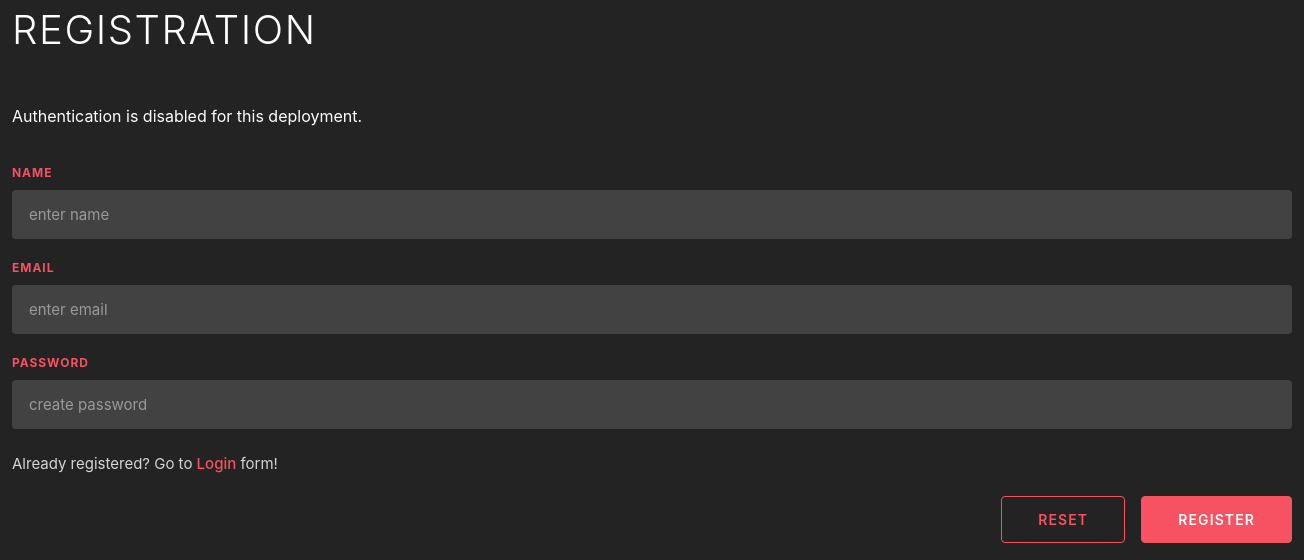
Test case: UserForm Component › registration form › clears fields and errors on reset button click
This screenshot has width=1304, height=560.
Type "John" into the field with placeholder "enter name" at point(652, 214), box [12,190,1292,239]
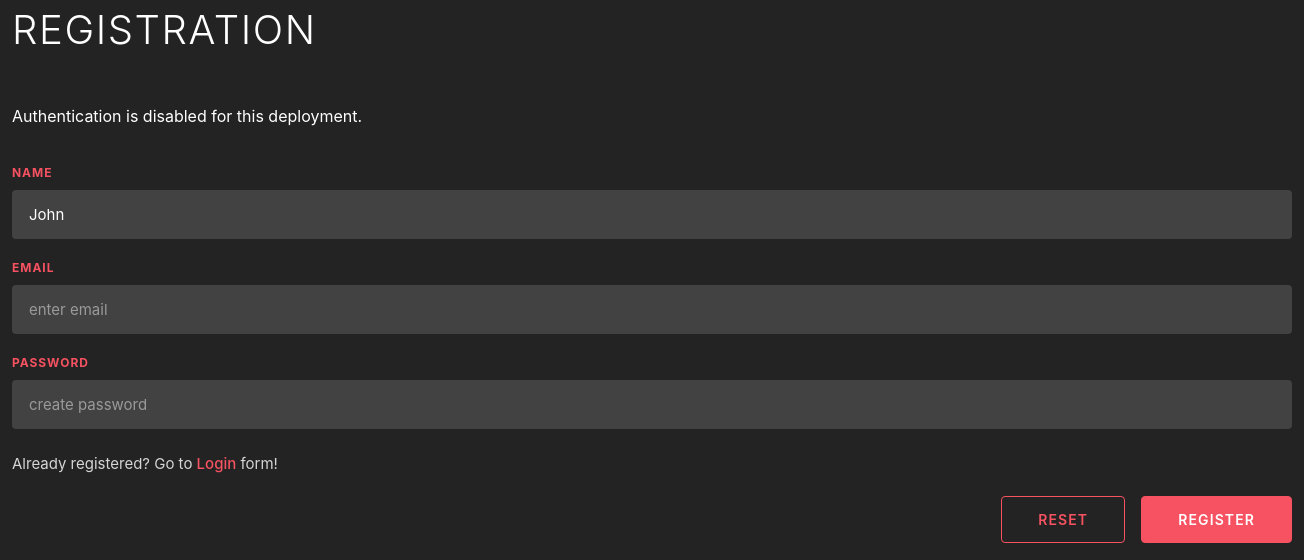
Type "john@example.com" into the field with placeholder "enter email" at point(652, 310), box [12,285,1292,334]
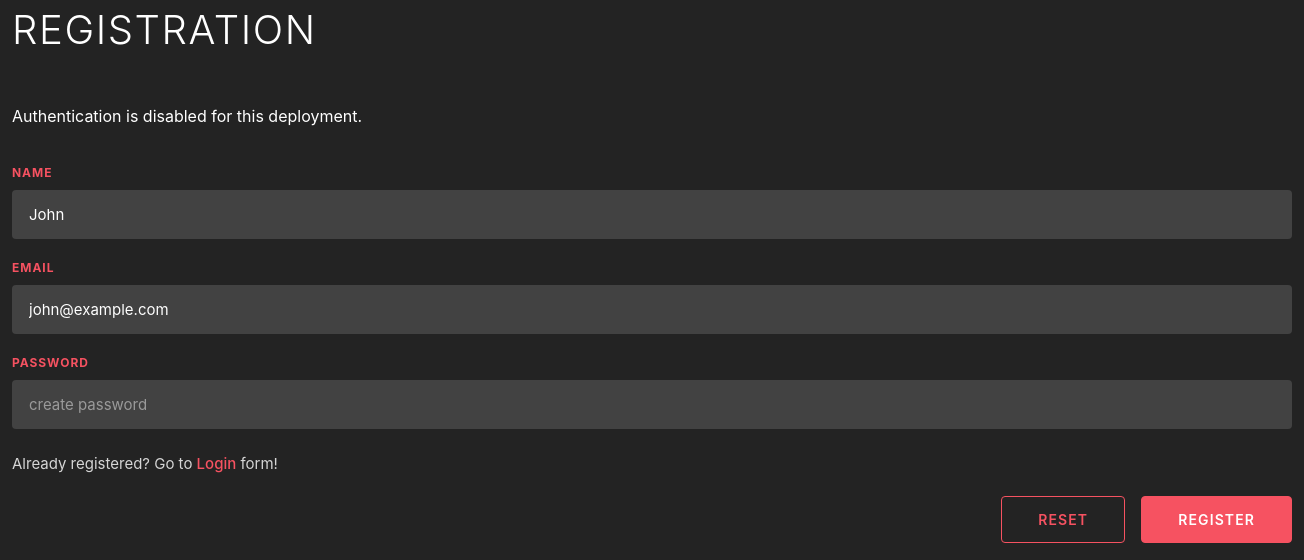
Type "password123" into the password field with placeholder "create password" at point(652, 404), box [12,380,1292,429]
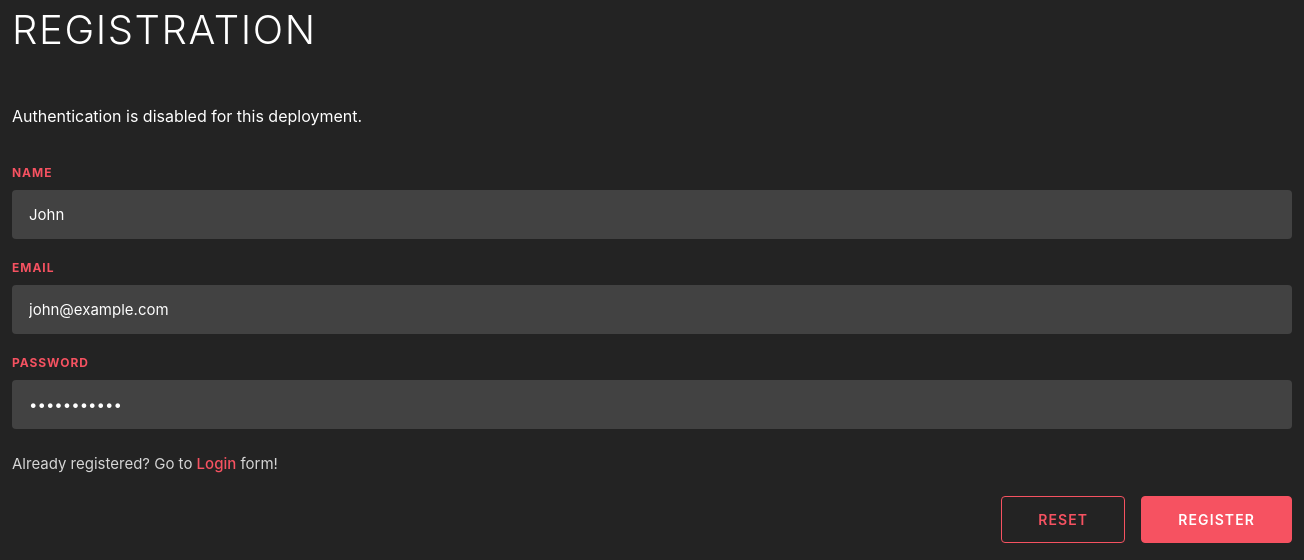
Click the button "RESET" at point(1063, 519), box [1001,496,1125,542]
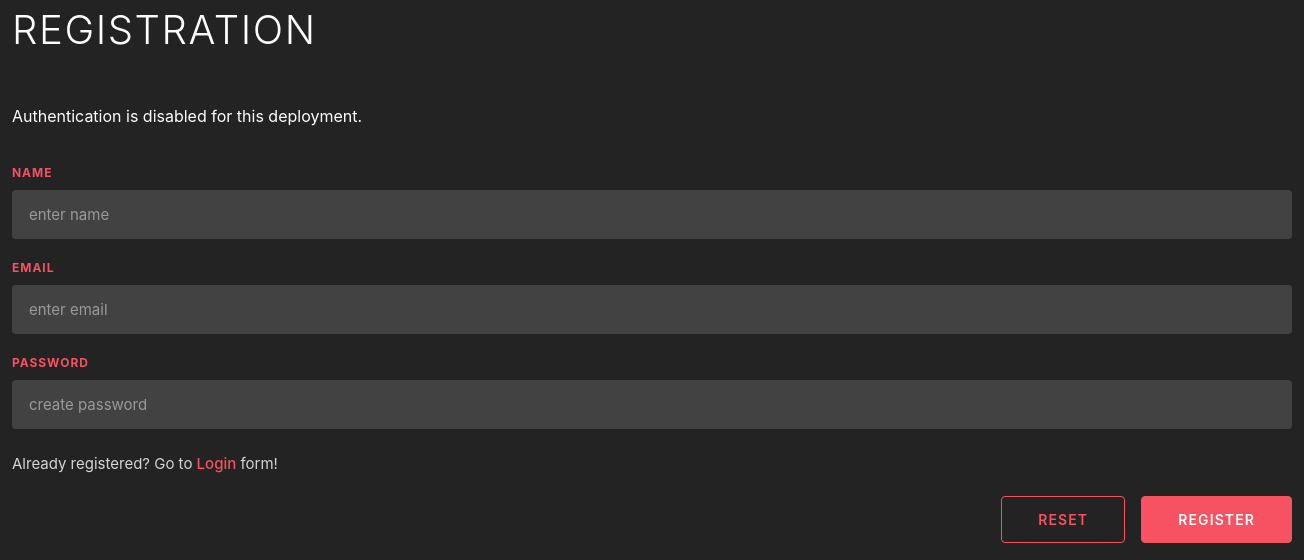
Now the field with placeholder "enter name" is empty, box [12,190,1292,239]
Now the field with placeholder "enter email" is empty, box [12,285,1292,334]
Now the password field with placeholder "create password" is empty, box [12,380,1292,429]
